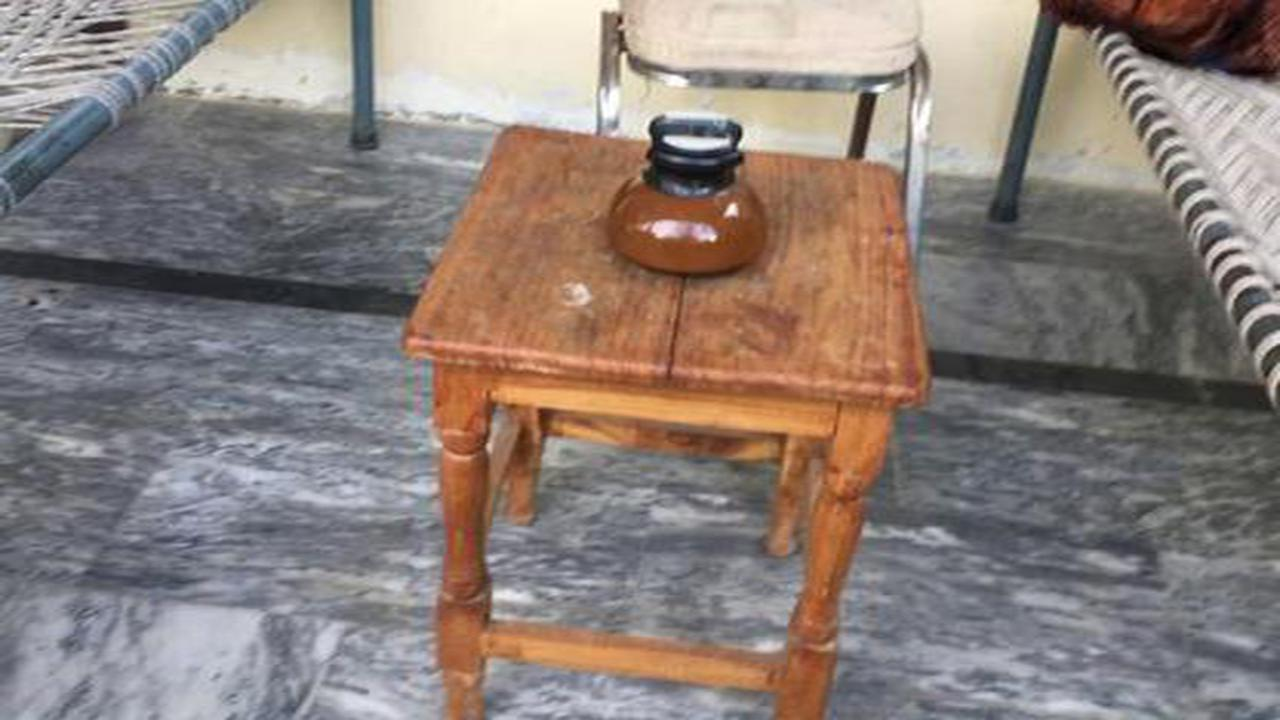insulator_pin: (585, 89, 788, 288)
